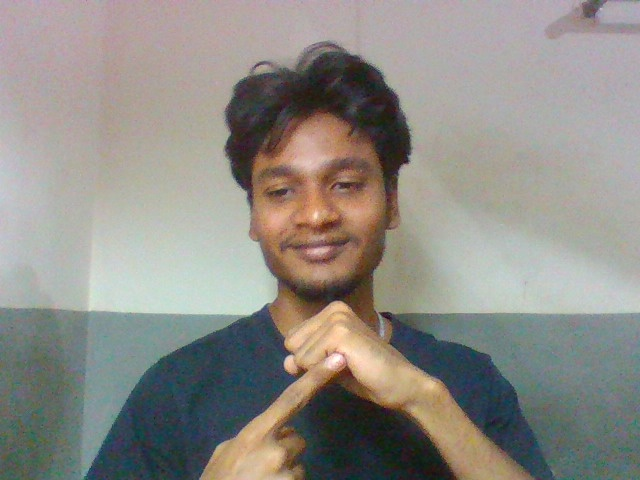Q: (215, 295, 412, 480)
